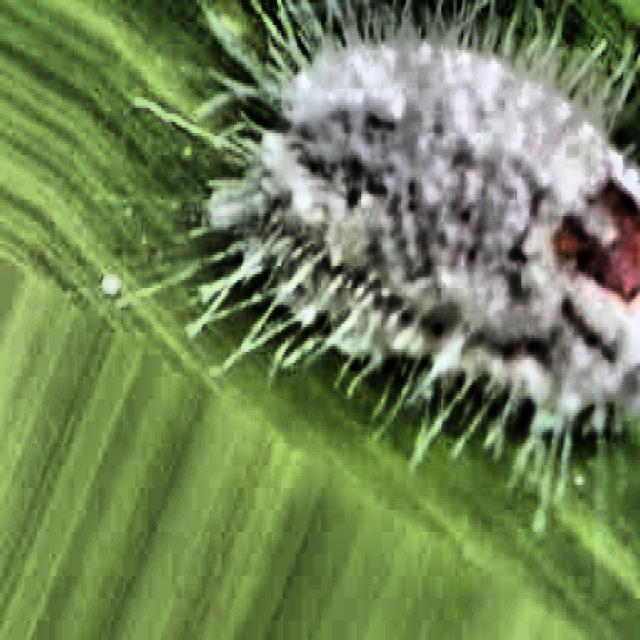Mealy-bug: (170, 0, 638, 429)
